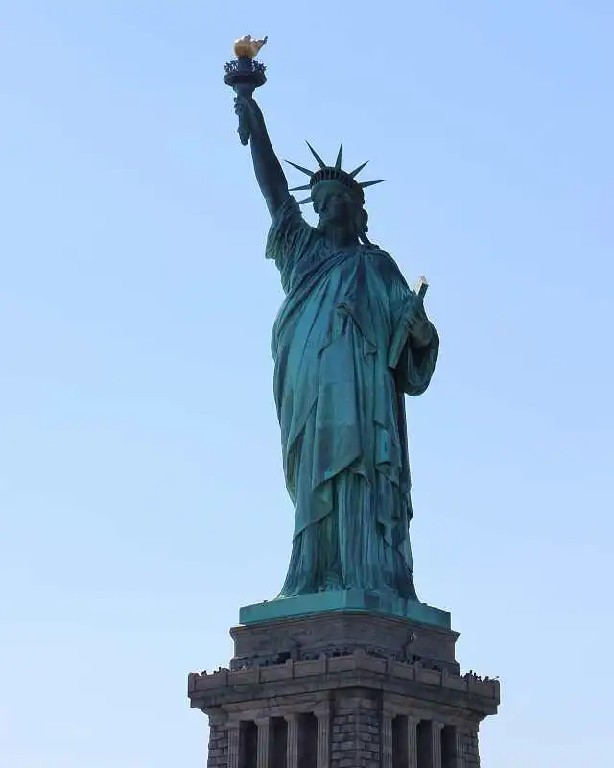SL: (188, 36, 500, 767)
